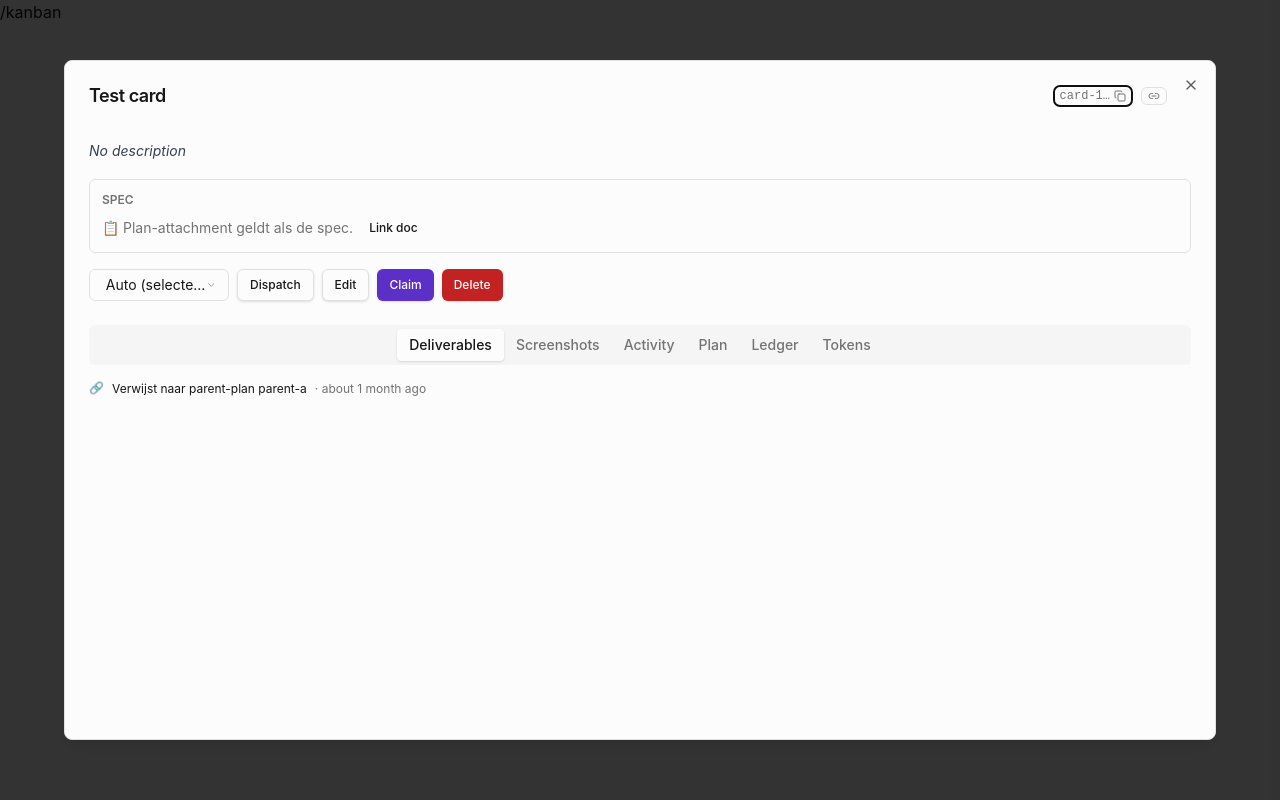
Test: CardDrawer Plan tab dead-link navigation › Parent plan button navigates to the parent card via the ?card= deep-link
Press the mouse on the tab "Plan" at (713, 345), box [686,329,739,361]
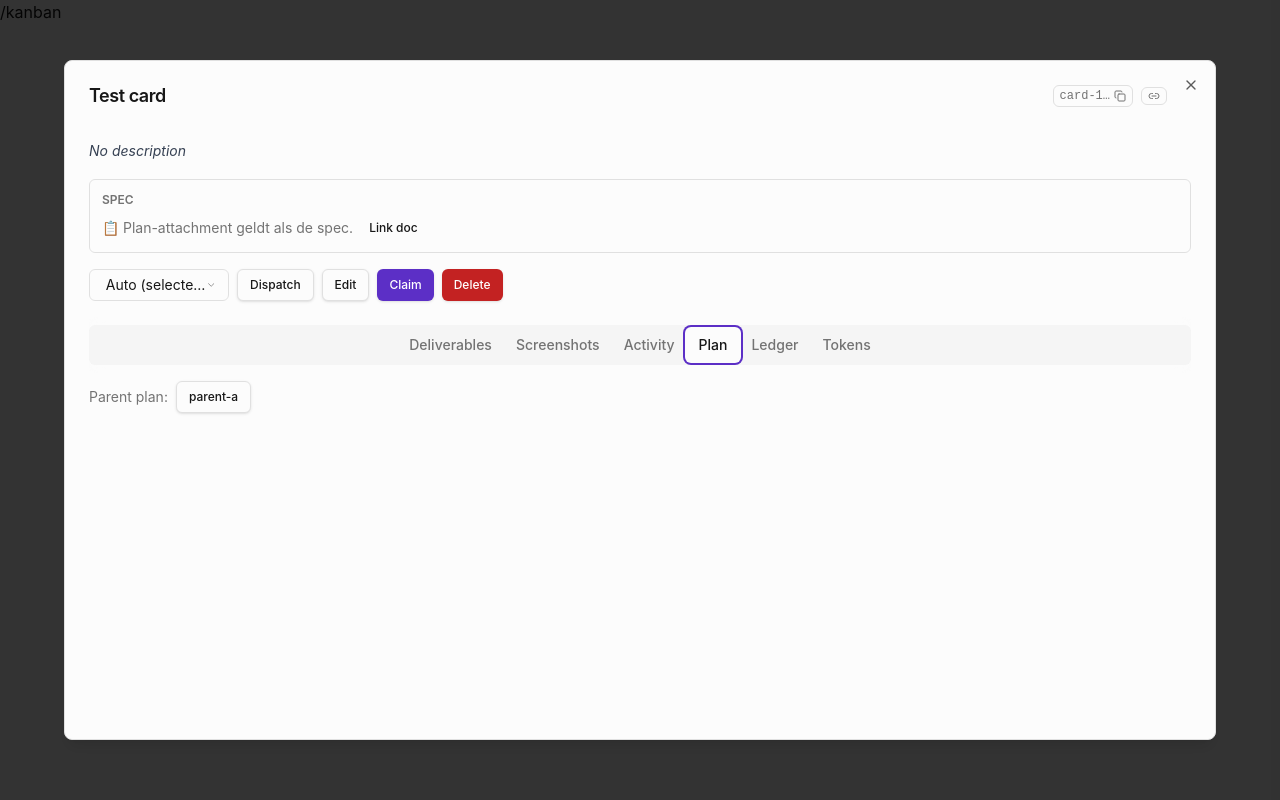
Click the button "parent-a" at (214, 397), box [176,381,251,413]
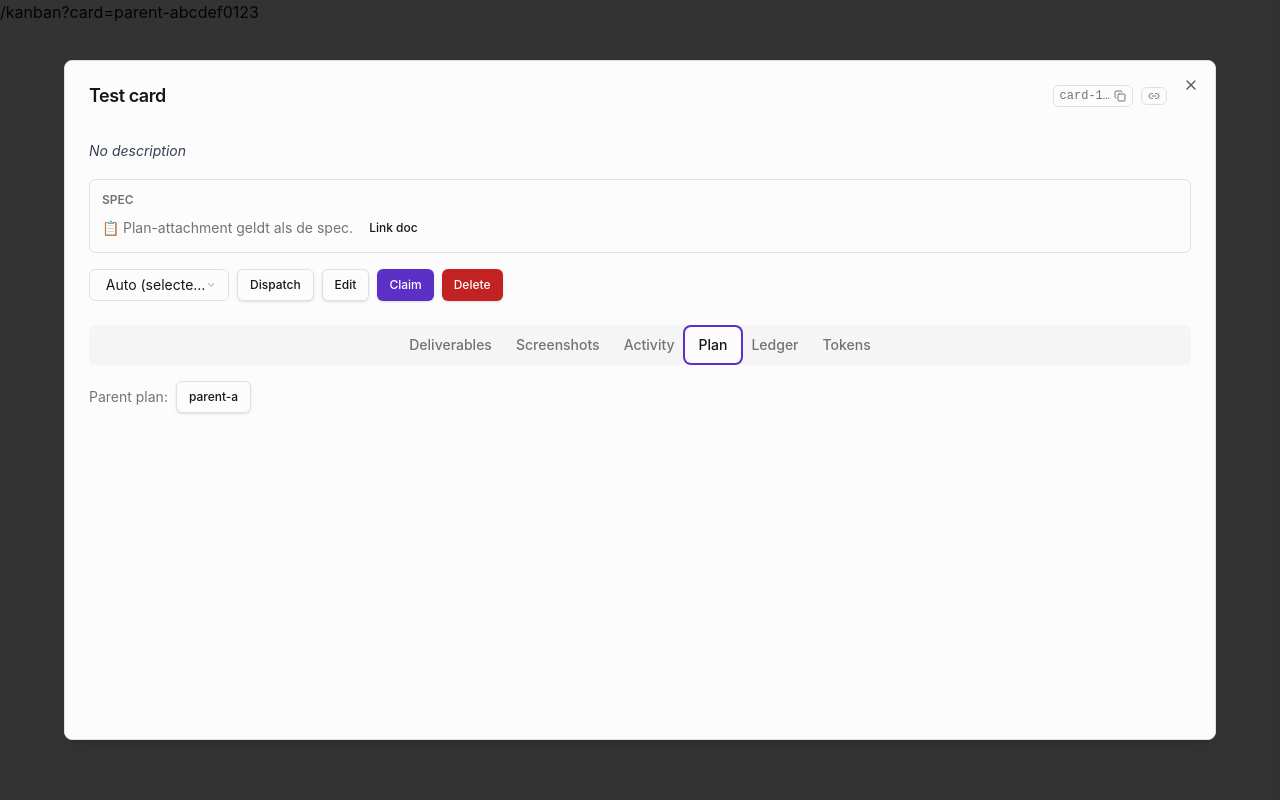
Expected: the text with test id "location" reads "/kanban?card=parent-abcdef0123", [0,2,259,22]
